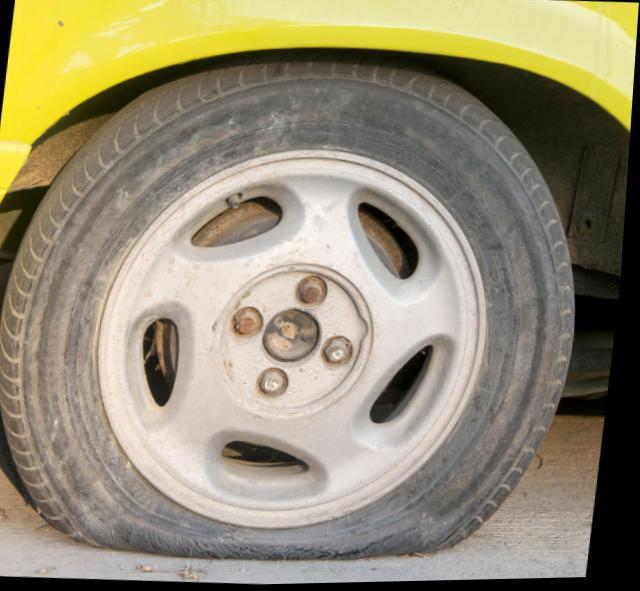tire flat: (2, 52, 580, 561)
